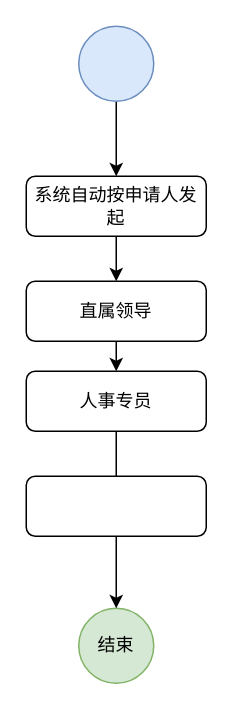
Image size: 233x710. Some labels were removed from this diagram. Each missing label, with the centre of its shape:
人事专员的直属领导: the point at 115,505
开始: the point at 115,63
